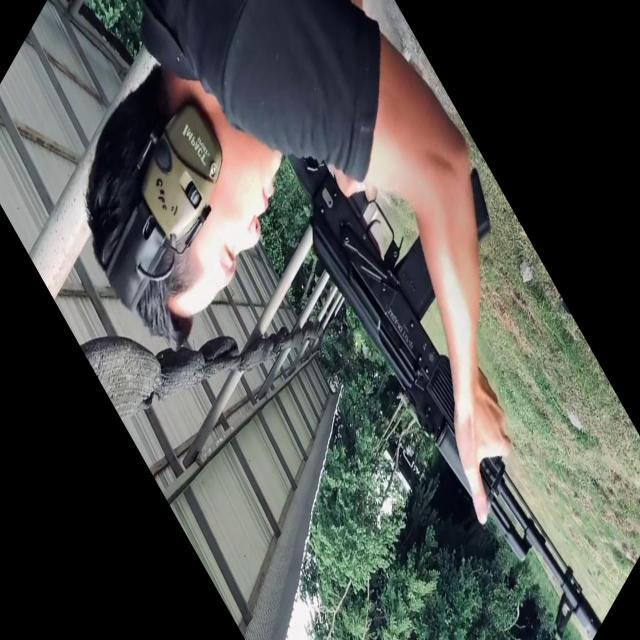weapon: (284, 152, 602, 640)
